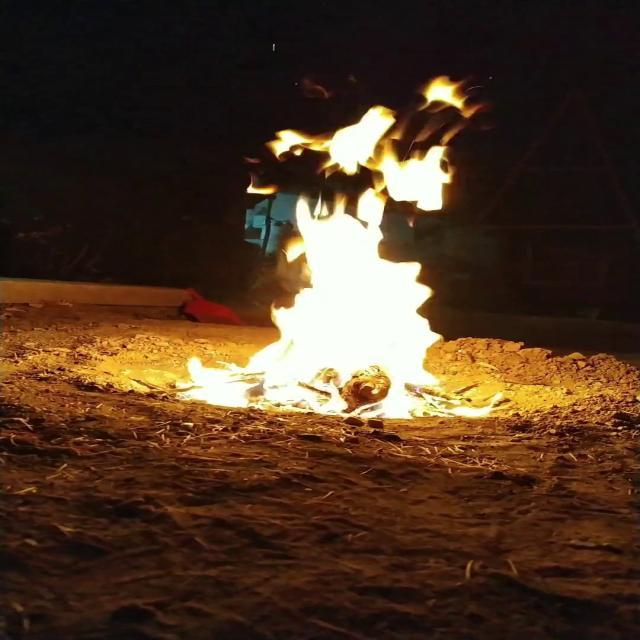Fire: (146, 46, 492, 414)
